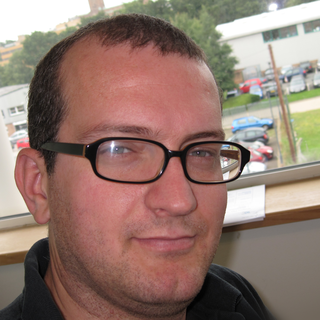eye: (98, 140, 140, 162), (182, 142, 217, 166)
